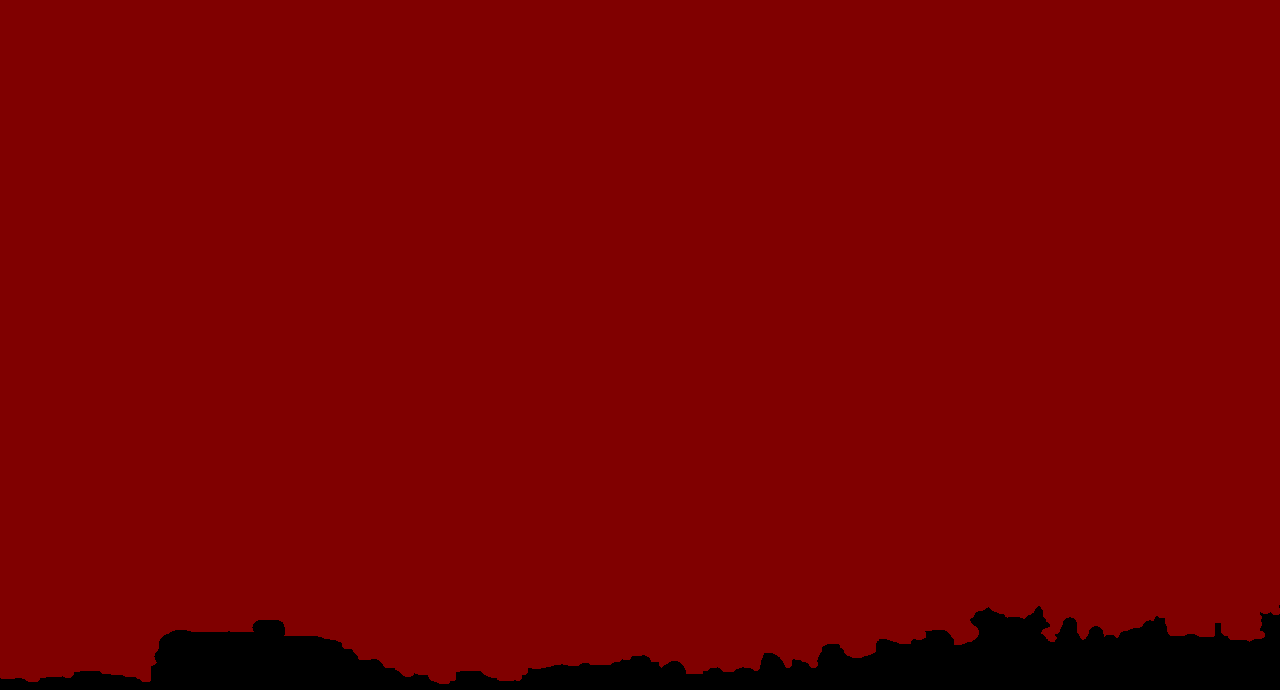Sky: (1, 1, 1279, 683)
